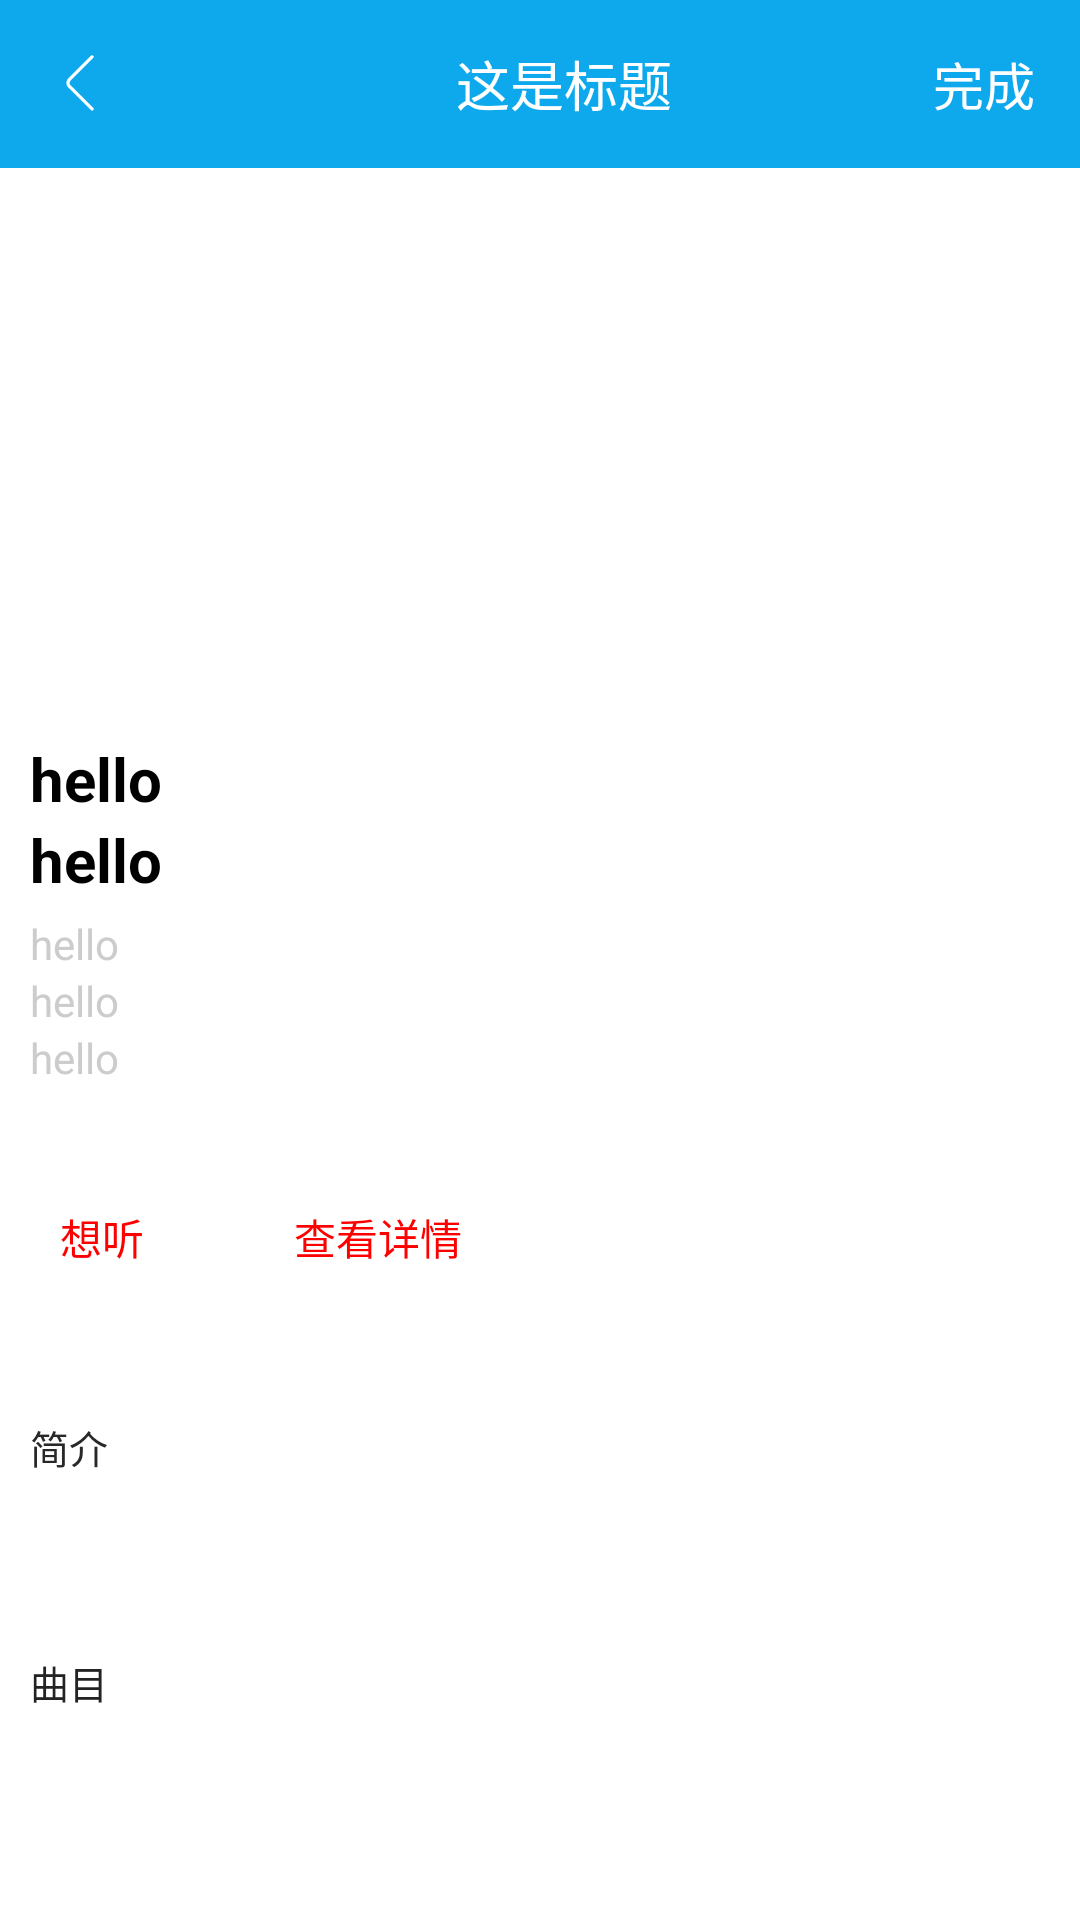

Icon click points for this 1080×1920 phone screenshot, format [x,y]:
back: [80,83]
